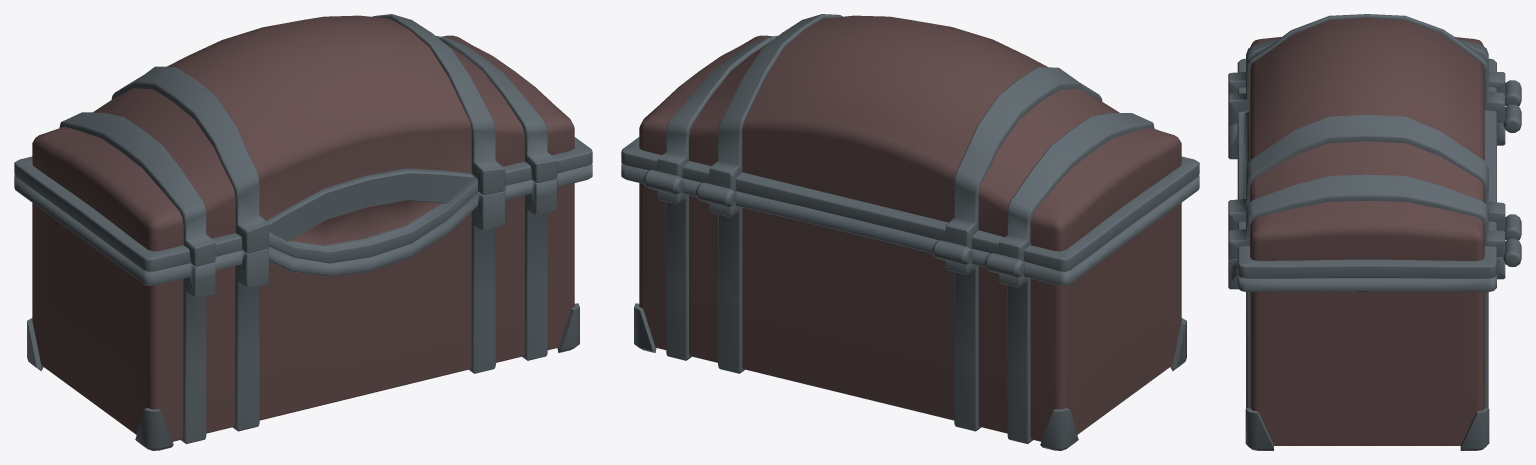
Rendered from TreasureChest_Opens_Anim.fbx.
The picture shows the model from 3 angles, left to right: view 1: azimuth 30°, elevation 25°; view 2: azimuth 150°, elevation 25°; view 3: azimuth 270°, elevation 25°; orthographic projection. The views are drawn at different scales.
Parts seen in each view (by area): view 1: ChestCover, ChestContainer; view 2: ChestContainer, ChestCover, BoltPins; view 3: ChestCover, ChestContainer, BoltPins.
Boxes of the visible parts, box(x1,y1,x2,y2) form: ChestCover: box(14, 14, 592, 271); ChestContainer: box(14, 163, 592, 450); ChestContainer: box(621, 163, 1199, 450); ChestCover: box(621, 14, 1199, 271); BoltPins: box(643, 169, 1025, 277); ChestCover: box(1228, 14, 1505, 278); ChestContainer: box(1228, 123, 1505, 450); BoltPins: box(1503, 80, 1521, 266).
Size of the model in its own units: 594 by 404 by 353.
